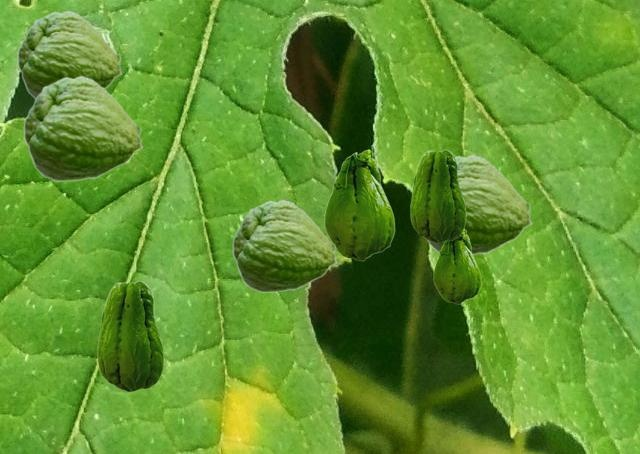sayote: (23, 75, 143, 181), (426, 154, 532, 256), (232, 199, 337, 292), (17, 10, 122, 98), (324, 149, 394, 260), (97, 280, 163, 391), (410, 149, 465, 242), (433, 228, 480, 303)
